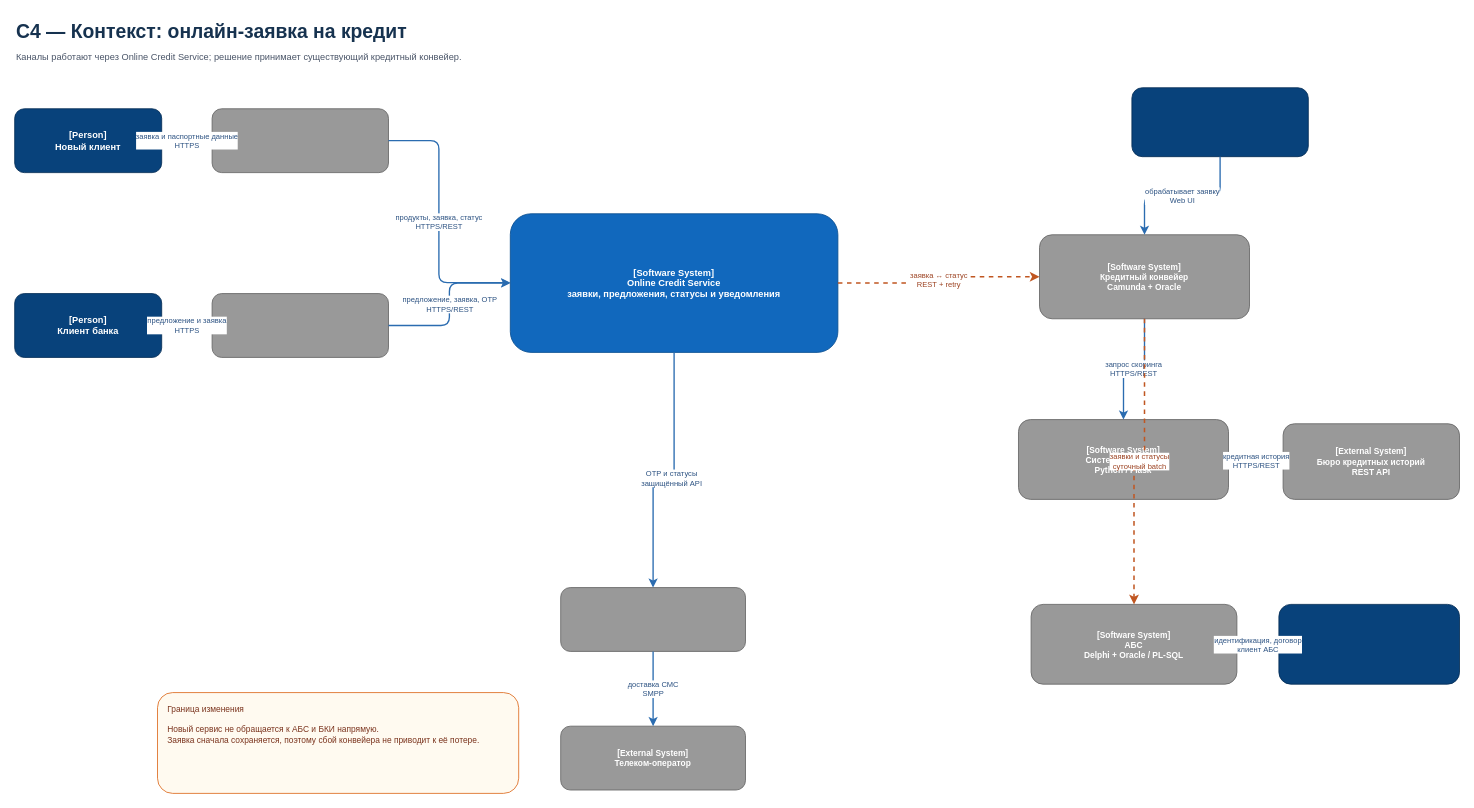
The diagram is 1474 pixels wide and 808 high, and some of its shapes have lost their labels. Each missing label, with the box of its shape:
[Existing System] Интернет-банк ASP.NET MVC 4.5: (211, 293, 388, 357)
[Existing System] Сайт банка PHP + React: (211, 108, 388, 173)
[Existing System] СМС-шлюз банка: (560, 587, 746, 651)
[Person] Сотрудник кредитного бэк-офиса: (1131, 87, 1308, 157)
[Person] Сотрудник отделения идентификация и договор: (1278, 604, 1460, 684)
